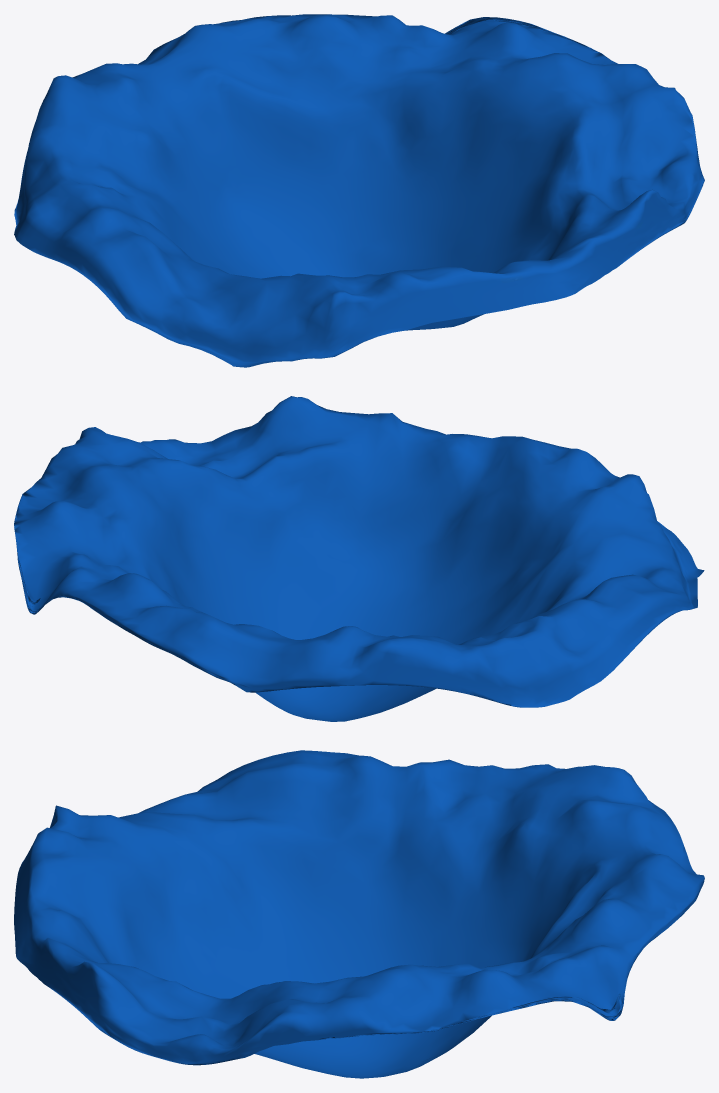
File: mariana.glb
3 views of the same model, one above another, from view 1: azimuth 30°, elevation 25°; view 2: azimuth 150°, elevation 25°; view 3: azimuth 270°, elevation 25° (orthographic). The views are drawn at different scales.
Visible parts, largest first — view 1: Object_2; view 2: Object_2; view 3: Object_2.
Part boxes in pixels (x1,y1,x2,y2): Object_2: [14, 14, 704, 367]; Object_2: [14, 396, 704, 721]; Object_2: [14, 750, 704, 1078].
Size of the model in its own units: 629 by 203 by 601.
1 material, 1 textured.
